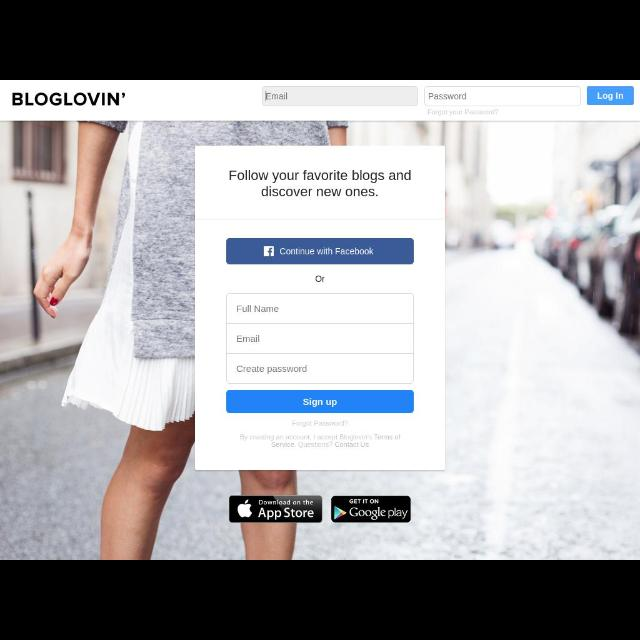backgroundimage: (1, 120, 640, 560)
image: (230, 496, 322, 522), (332, 496, 412, 522), (12, 92, 126, 106), (264, 246, 274, 256)
input: (425, 86, 581, 106), (263, 86, 419, 105)
text: (230, 170, 412, 196), (240, 434, 402, 448), (280, 248, 374, 254), (236, 366, 308, 372), (428, 109, 498, 115), (292, 419, 348, 426), (302, 397, 338, 407), (237, 305, 280, 313), (597, 92, 623, 100), (264, 92, 288, 100), (236, 335, 260, 343), (316, 276, 326, 282)
textbutton: (227, 238, 415, 264), (587, 87, 633, 105)
toolbar: (0, 82, 638, 120)
